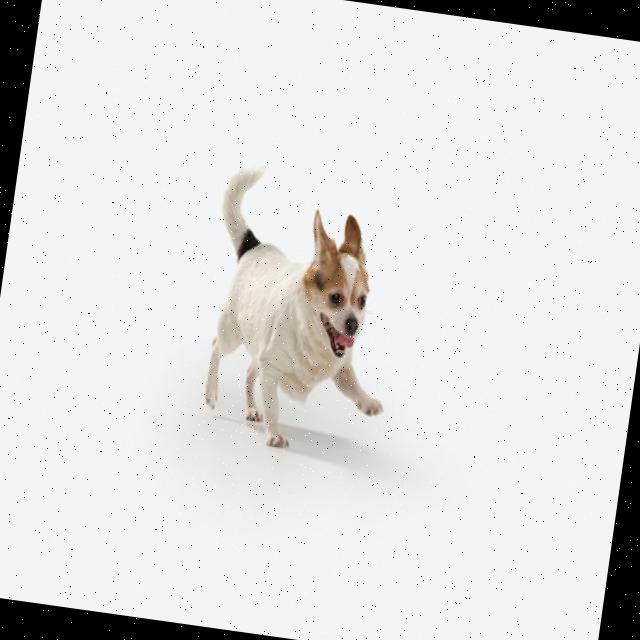Dog: (188, 162, 414, 460)
